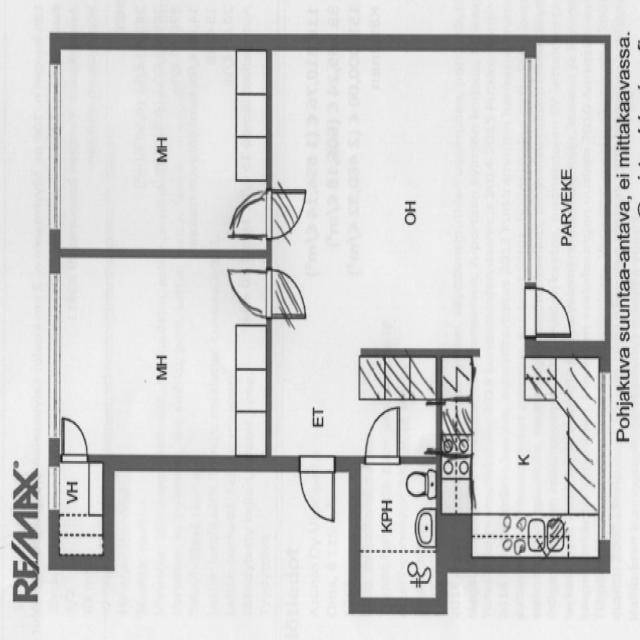door: (269, 54, 531, 357), (55, 45, 267, 255), (58, 256, 268, 462), (53, 461, 108, 559), (294, 455, 339, 527), (360, 402, 406, 469)
window: (518, 45, 545, 282), (41, 59, 67, 237), (43, 264, 65, 433), (46, 462, 62, 515)
zone: (442, 350, 603, 558), (354, 458, 441, 608), (52, 457, 107, 560), (520, 280, 576, 344), (223, 254, 273, 322), (223, 184, 274, 247), (58, 414, 92, 465)
